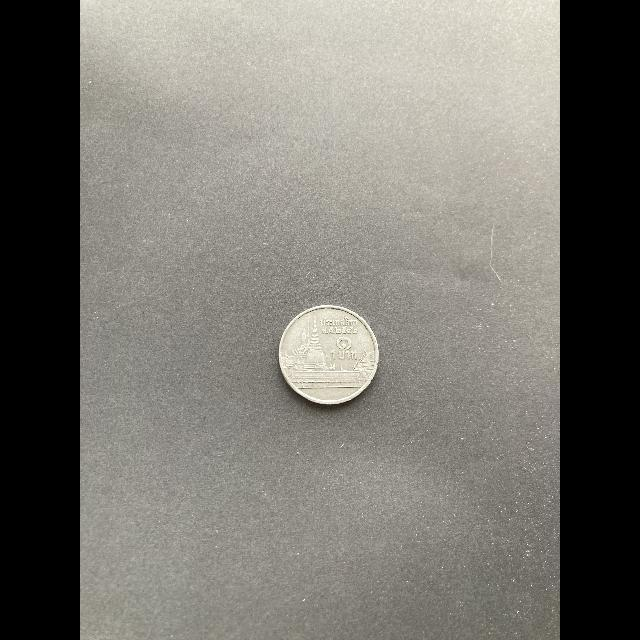1 Bath: (276, 304, 385, 411)
